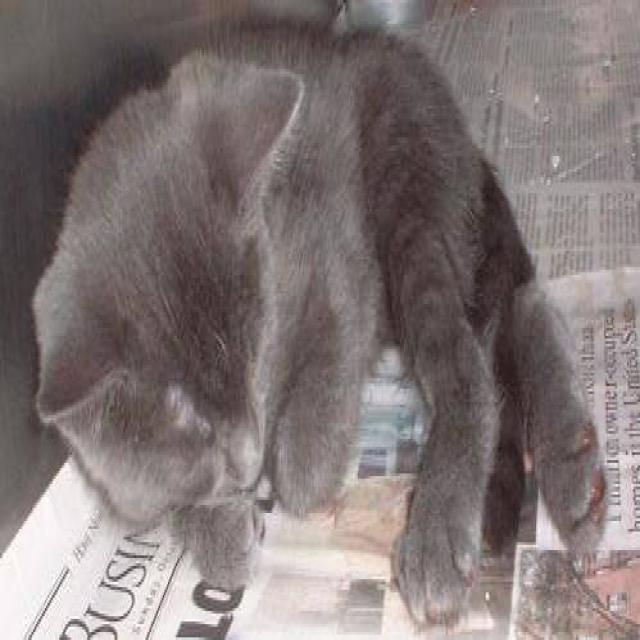cat: (31, 16, 606, 624)
